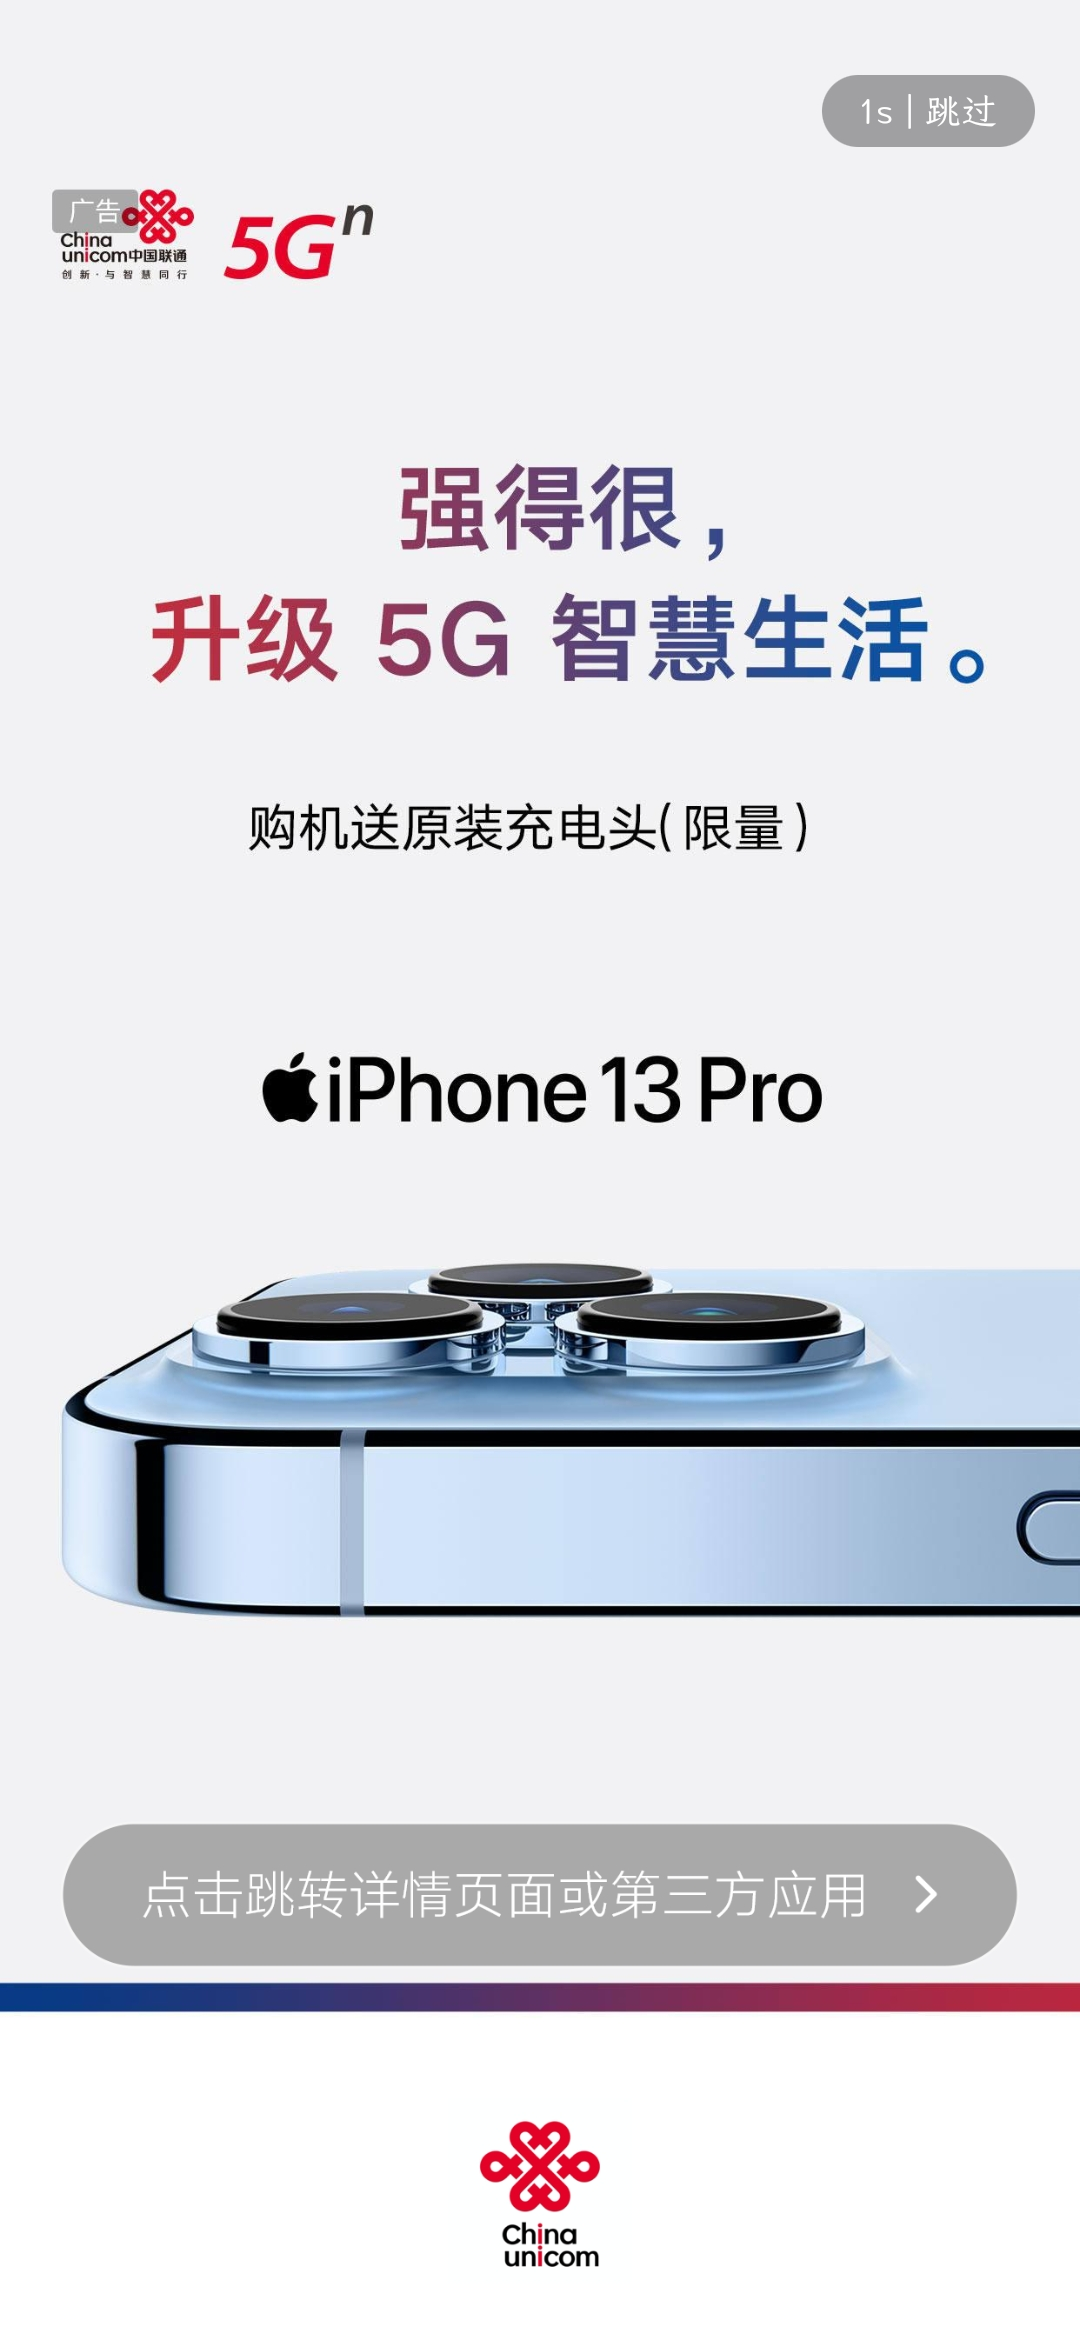skip: (850, 75, 1011, 145)
